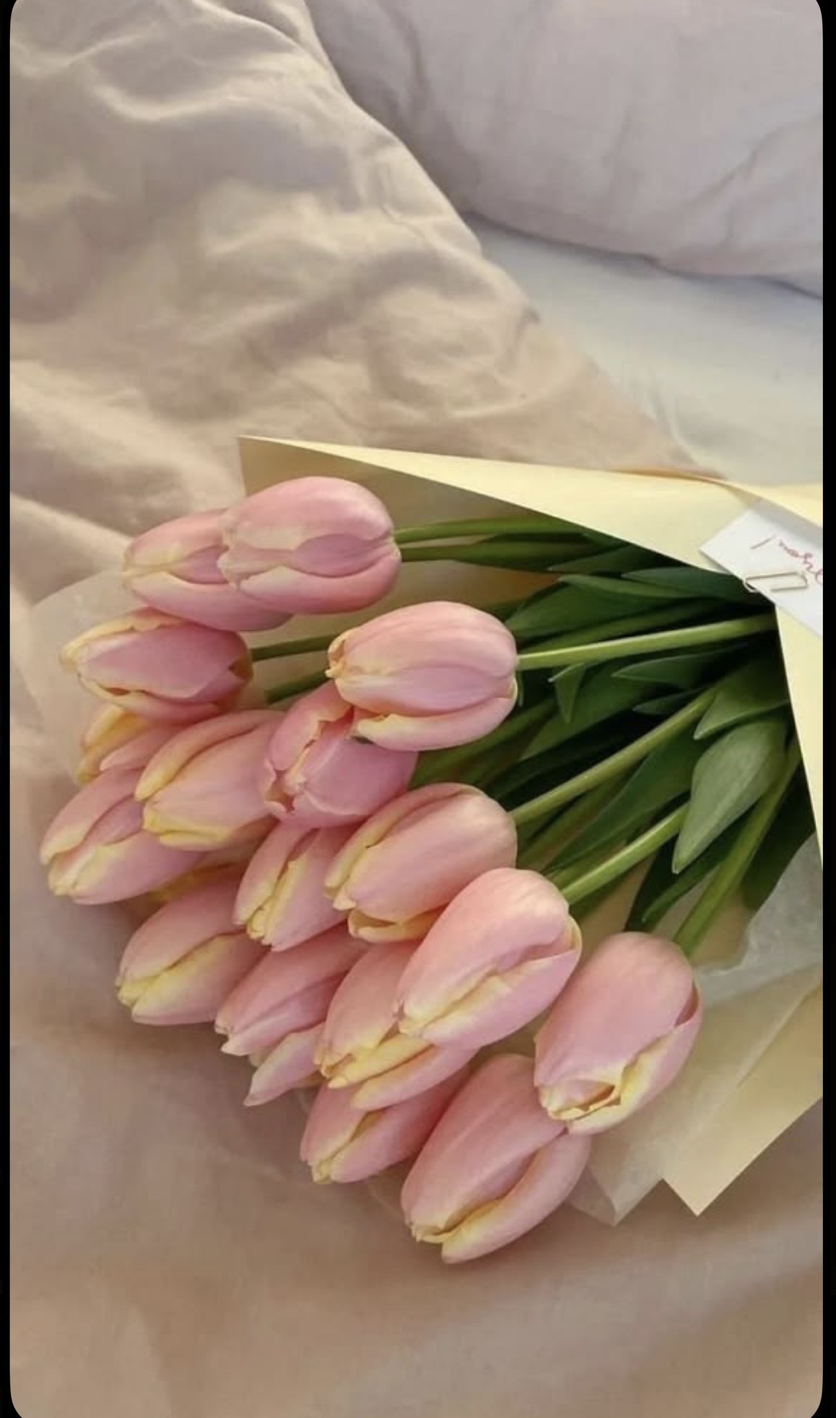tulip: (395, 1050, 597, 1277), (528, 926, 715, 1140), (398, 861, 589, 1067), (318, 777, 522, 945), (317, 594, 522, 753), (30, 759, 224, 918), (212, 926, 423, 1070), (111, 877, 295, 1038), (211, 463, 409, 610), (125, 697, 294, 861), (248, 674, 417, 835), (111, 494, 300, 636), (292, 1051, 475, 1197), (220, 806, 369, 965), (44, 604, 257, 712), (306, 933, 438, 1093), (65, 684, 222, 793)
